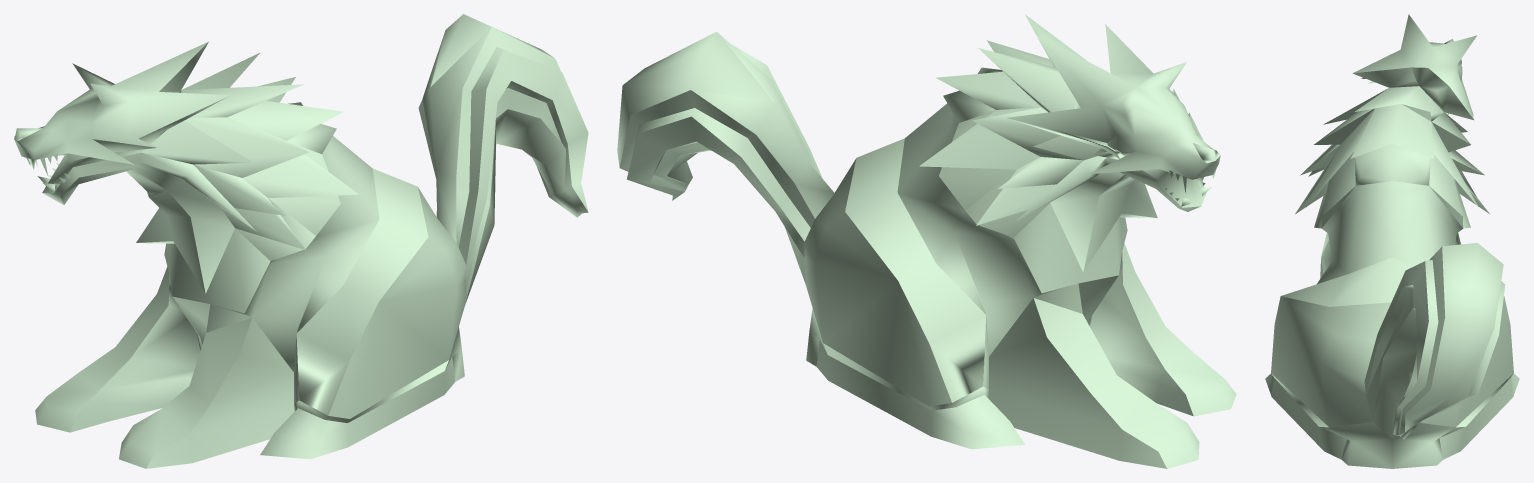
3 renders of one model, left to right at view 1: azimuth 30°, elevation 25°; view 2: azimuth 150°, elevation 25°; view 3: azimuth 270°, elevation 25°, orthographic. The views are drawn at different scales.
Parts seen in each view (by area): view 1: Object82; view 2: Object82; view 3: Object82.
Part boxes in pixels (box(x1,y1,x2,y2)): Object82: box(14, 14, 588, 468); Object82: box(617, 14, 1236, 468); Object82: box(1265, 14, 1519, 468).
Bounding box in the file's own units: 689 × 415 × 310.
